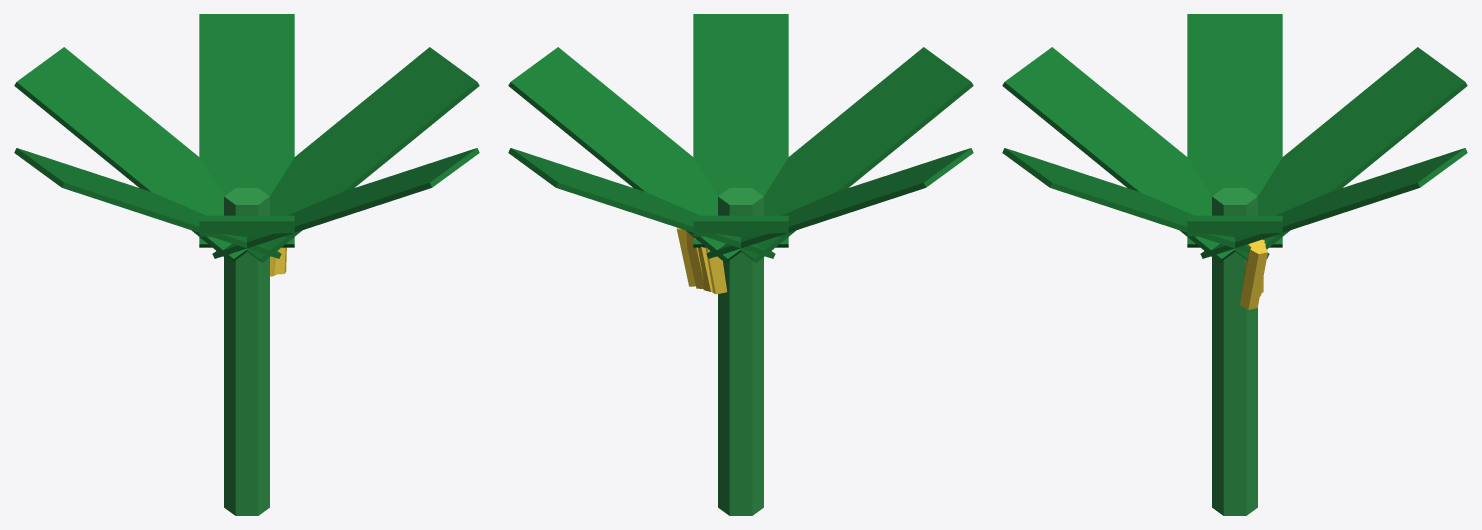
File: banana_plant.glb
3 renders of one model, left to right at view 1: azimuth 30°, elevation 25°; view 2: azimuth 150°, elevation 25°; view 3: azimuth 270°, elevation 25°, orthographic.
Parts seen in each view (by area): view 1: banana_plant; view 2: banana_plant; view 3: banana_plant.
Boxes of the visible parts, x1,y1,x2,y2 form: banana_plant: (14, 14, 479, 515); banana_plant: (508, 14, 973, 515); banana_plant: (1002, 14, 1467, 515).
Bounding box in the file's own units: 2.53 × 2.27 × 2.44.
